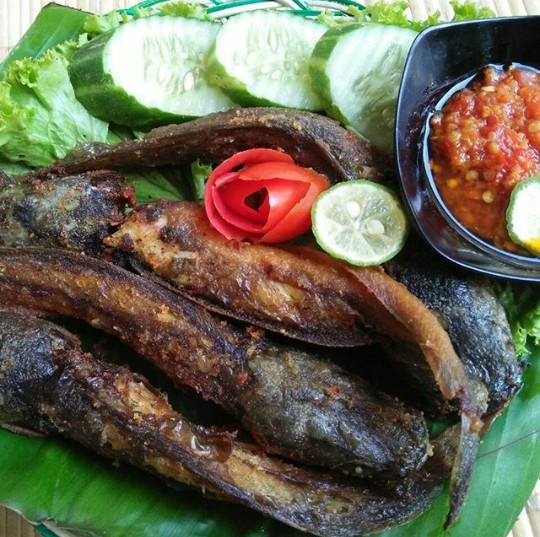pecel_lele: (0, 243, 417, 472)
